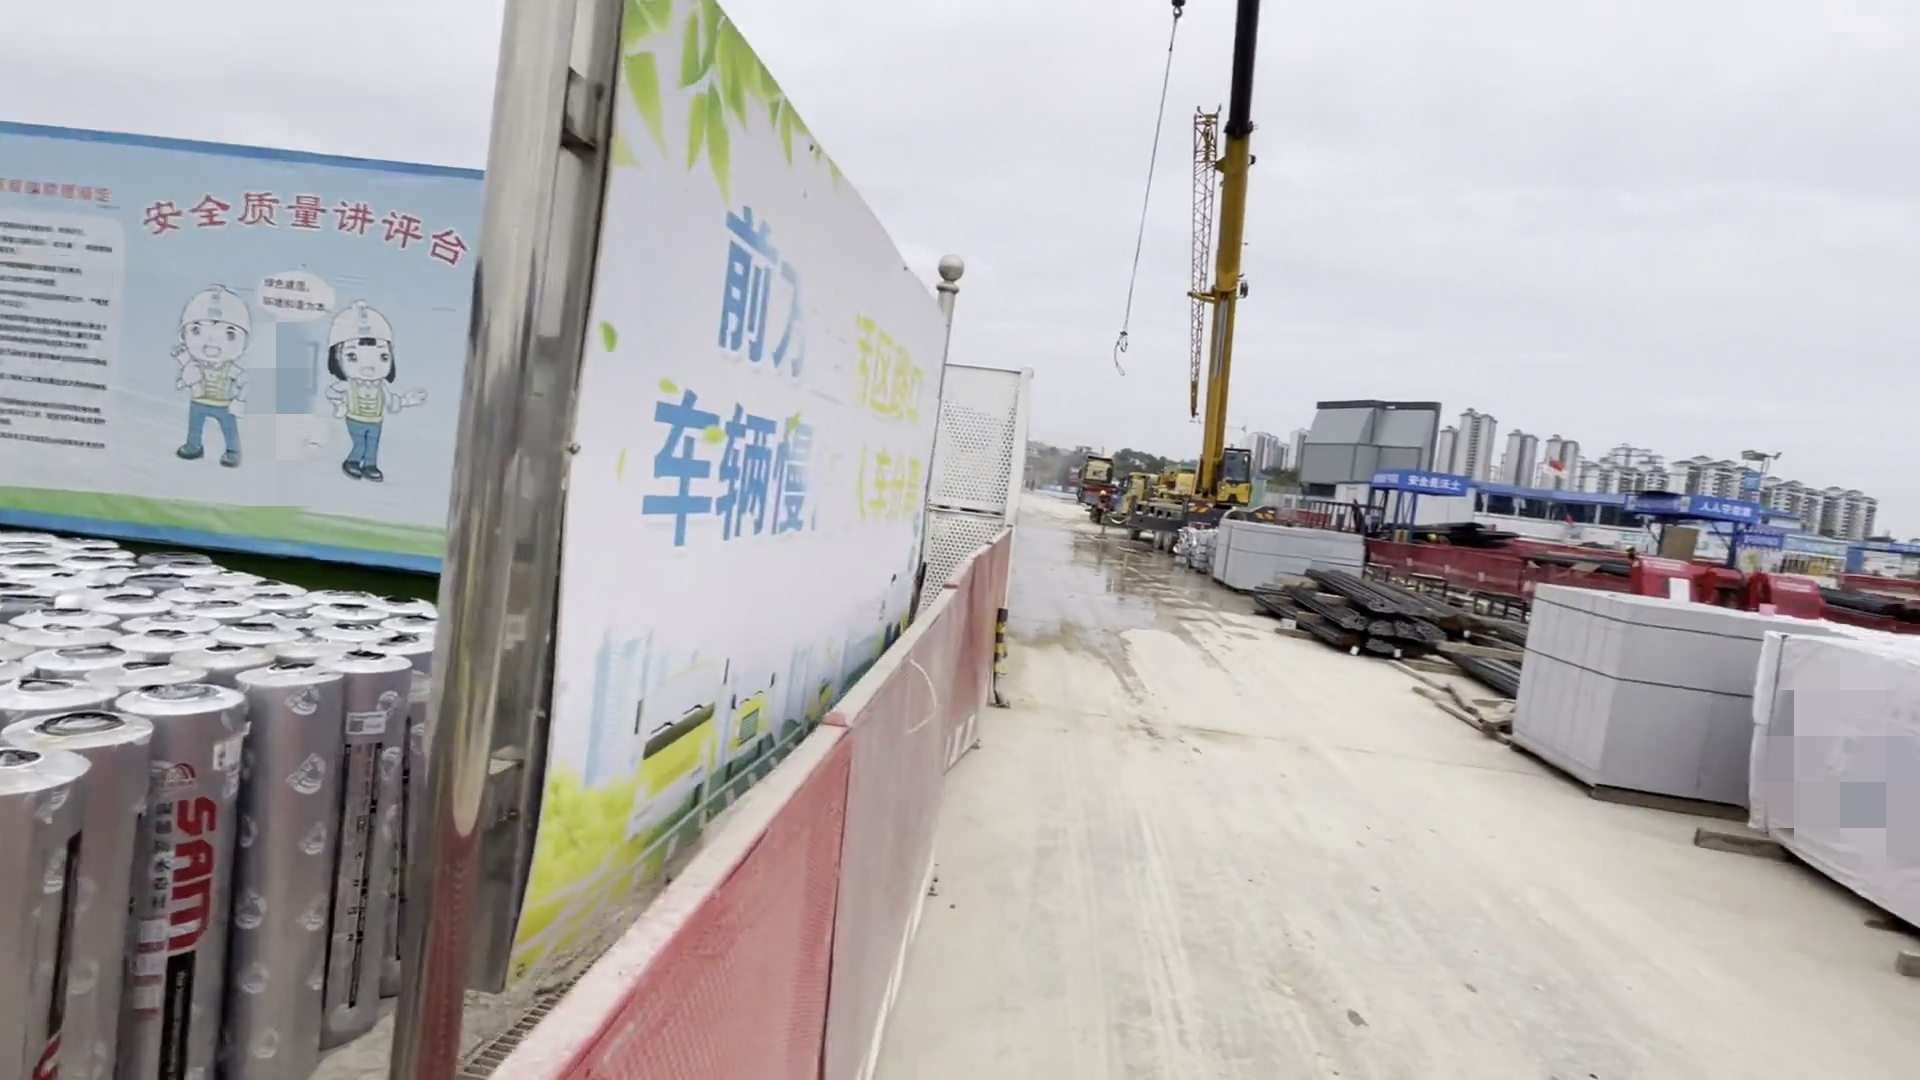brick: (1506, 592, 1771, 831), (1207, 512, 1369, 607)
